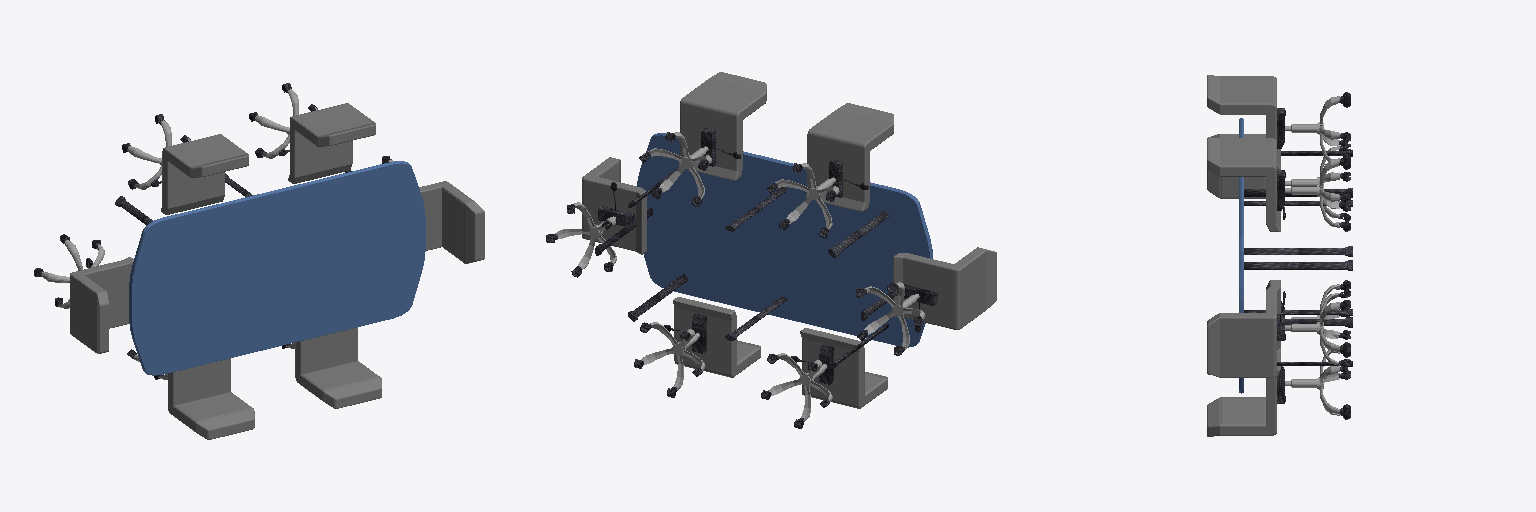
The picture shows the model from 3 angles: view 1: azimuth 30°, elevation 25°; view 2: azimuth 150°, elevation 25°; view 3: azimuth 270°, elevation 25°; orthographic projection.
Visible parts, largest first — view 1: Cube_Cube.001, Cube.014_Cube.015, Cube.008_Cube.002, Cube.009_Cube.010, Cube.015_Cube.018, Cube.018_Cube.005, Cube.023; view 2: Cube_Cube.001, Cube.018_Cube.005, Cube.014_Cube.015, Cube.015_Cube.018, Cube.009_Cube.010, Cube.008_Cube.002, Cube.023, Cylinder.001_Cylinder.019, Cylinder.012_Cylinder.018; view 3: Cube.023, Cube.015_Cube.018, Cube.014_Cube.015, Cube.009_Cube.010, Cube.018_Cube.005, Cylinder.004_Cylinder.020, Cube_Cube.001, Cylinder.009_Cylinder.015.
Part boxes in pixels (x1,y1,x2,y2): Cube_Cube.001: (129,161,425,375); Cube.014_Cube.015: (161,134,248,214); Cube.008_Cube.002: (168,358,254,439); Cube.009_Cube.010: (295,327,381,408); Cube.015_Cube.018: (288,103,375,183); Cube.018_Cube.005: (70,257,133,353); Cube.023: (419,181,484,263); Cube_Cube.001: (637,133,932,347); Cube.018_Cube.005: (893,247,996,329); Cube.014_Cube.015: (806,103,893,211); Cube.015_Cube.018: (678,72,766,180); Cube.009_Cube.010: (673,297,760,377); Cube.008_Cube.002: (800,328,887,408); Cube.023: (582,157,646,254); Cylinder.001_Cylinder.019: (828,211,888,257); Cylinder.012_Cylinder.018: (628,274,687,321); Cube.023: (1207,287,1280,377); Cube.015_Cube.018: (1207,137,1280,231); Cube.014_Cube.015: (1207,75,1280,169); Cube.009_Cube.010: (1207,347,1280,436); Cube.018_Cube.005: (1207,134,1280,198); Cylinder.004_Cylinder.020: (1244,260,1352,270); Cube_Cube.001: (1239,118,1243,393); Cylinder.009_Cylinder.015: (1244,246,1352,256).
Bounding box in the file's own units: 3.33 × 2.27 × 1.09.
Materials: 7 (1 with a texture image).